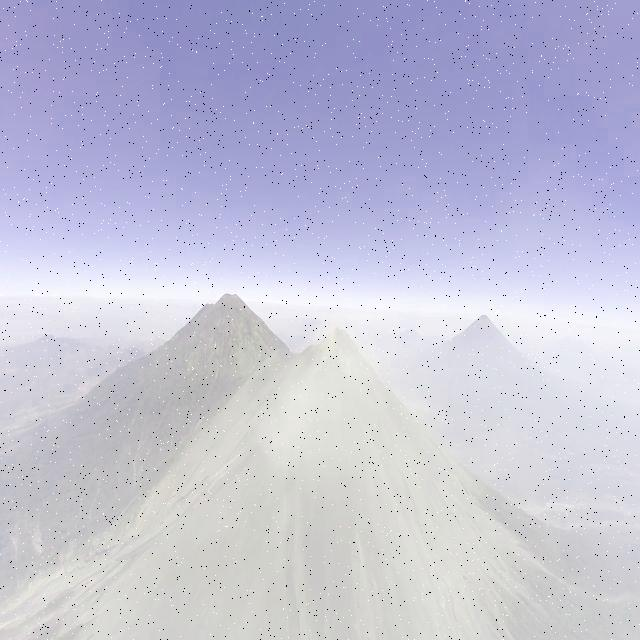Summit: (297, 324, 378, 382)
